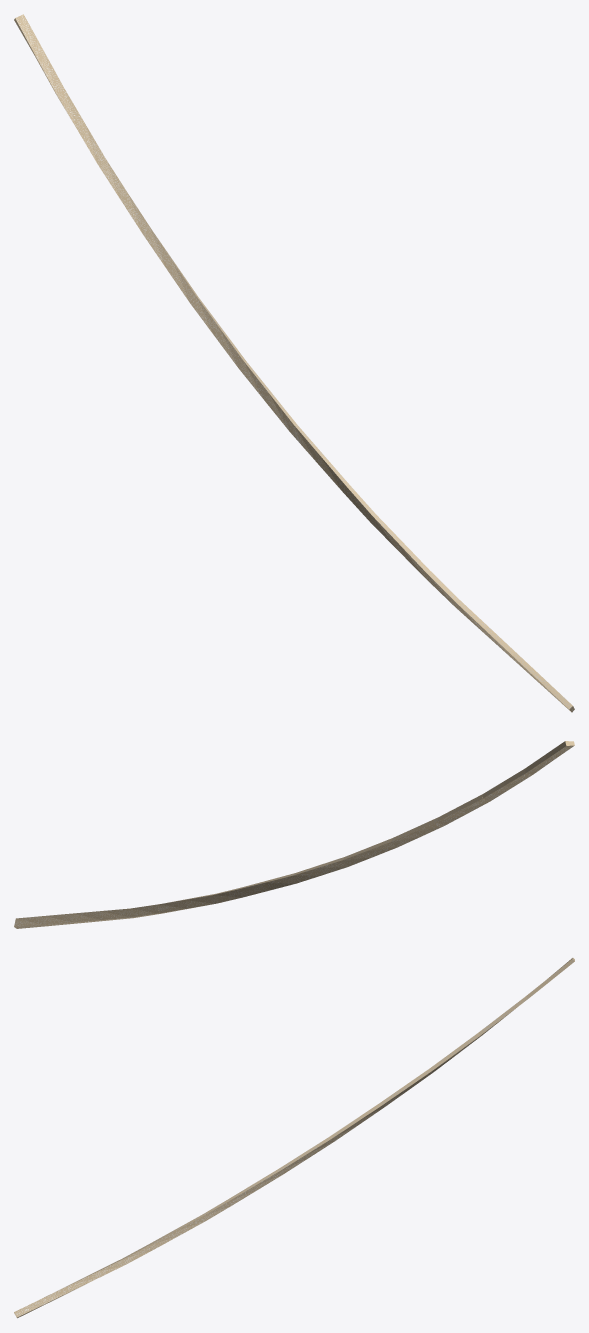
Rendered from original-21.obj.
3 views of the same model, one above another, from view 1: azimuth 30°, elevation 25°; view 2: azimuth 210°, elevation 25°; view 3: azimuth 270°, elevation 25° (orthographic). The views are drawn at different scales.
Parts seen in each view (by area): view 1: yu19/yu/mesh1/mesh1-geometry#mesh1-geometry; view 2: yu19/yu/mesh1/mesh1-geometry#mesh1-geometry; view 3: yu19/yu/mesh1/mesh1-geometry#mesh1-geometry.
Part boxes in pixels (x1=…): yu19/yu/mesh1/mesh1-geometry#mesh1-geometry: x1=14, y1=14, x2=574, y2=712; yu19/yu/mesh1/mesh1-geometry#mesh1-geometry: x1=14, y1=741, x2=574, y2=928; yu19/yu/mesh1/mesh1-geometry#mesh1-geometry: x1=14, y1=958, x2=574, y2=1318.
Bounding box in the file's own units: 0.0822 × 0.2166 × 0.3566.
